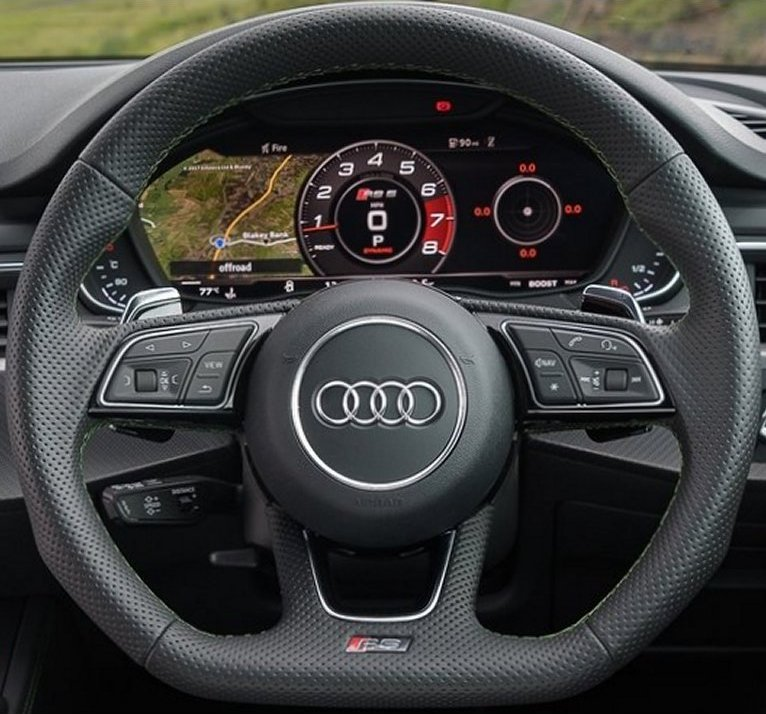audi: (303, 376, 448, 432)
